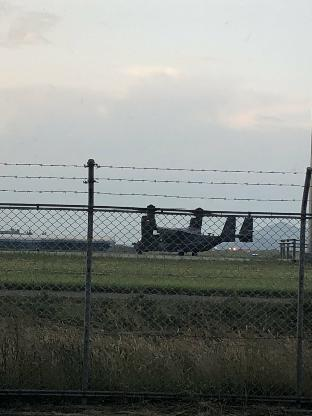Tornado: (115, 204, 254, 256)
